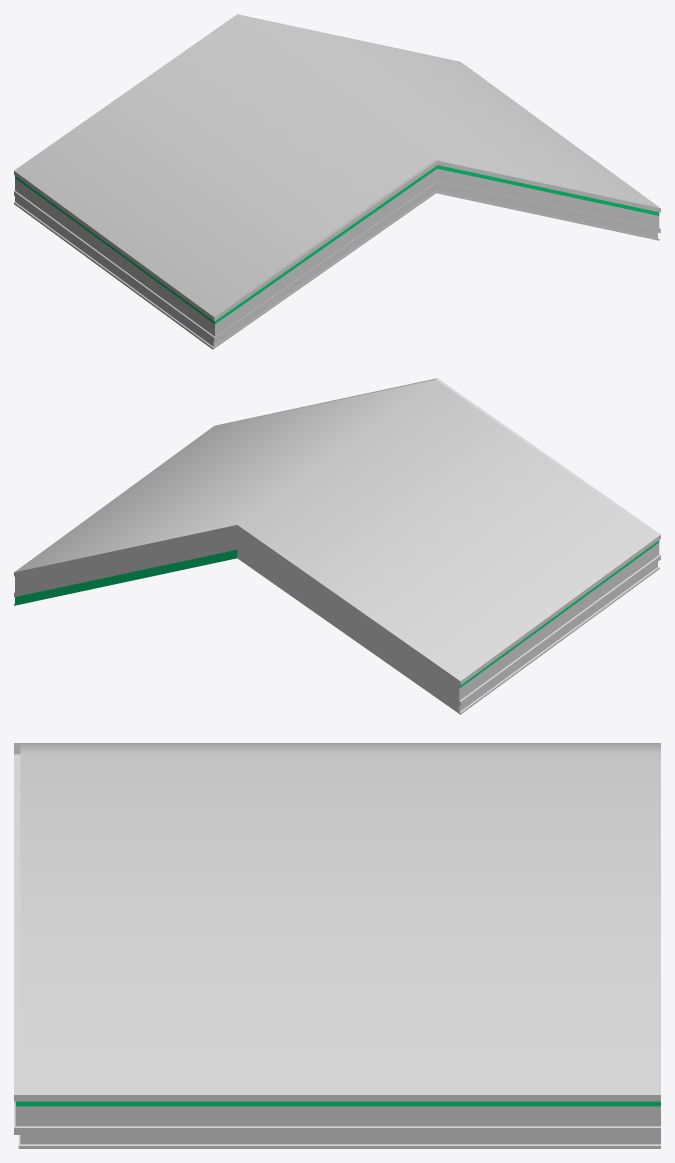
Rendered from Roof_01.fbx.
3 views of the same model, one above another, from view 1: azimuth 30°, elevation 25°; view 2: azimuth 150°, elevation 25°; view 3: azimuth 270°, elevation 25° (orthographic). The views are drawn at different scales.
Parts seen in each view (by area): view 1: Plane001; view 2: Plane001; view 3: Plane001.
Part boxes in pixels (x1,y1,x2,y2): Plane001: (14, 14, 660, 349); Plane001: (14, 378, 660, 714); Plane001: (14, 743, 660, 1148).
Size of the model in its own units: 1141 by 887 by 331.
